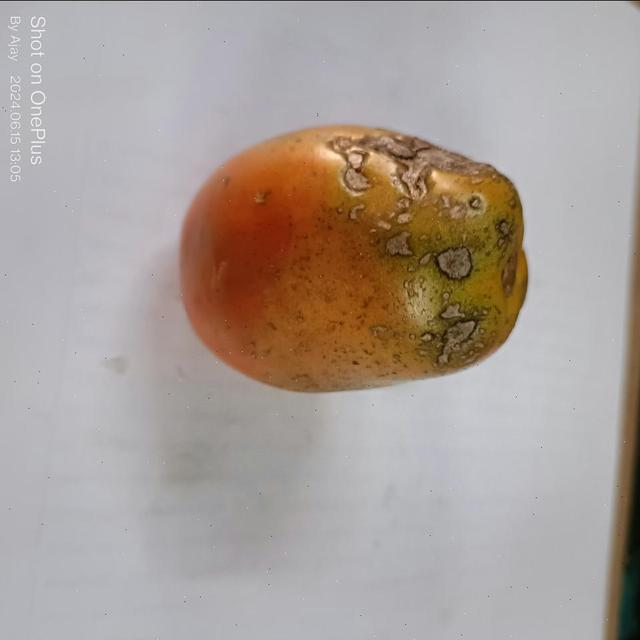Bacterial Spot Fruit: (10, 8, 336, 222)
